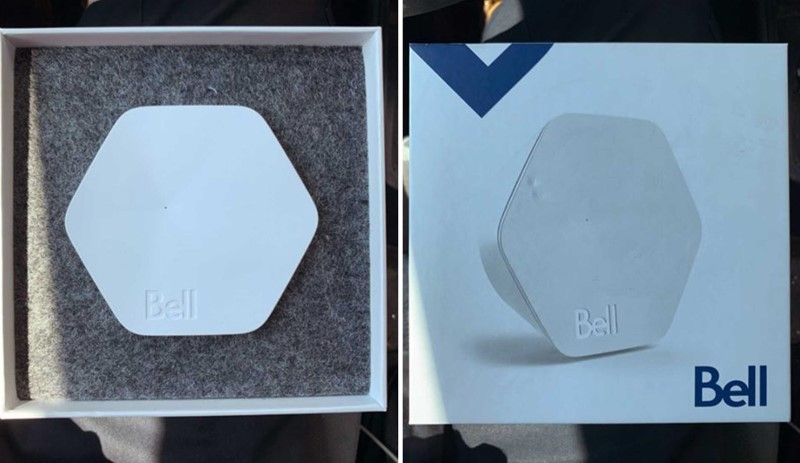pod: (51, 102, 319, 346), (466, 112, 706, 356)
